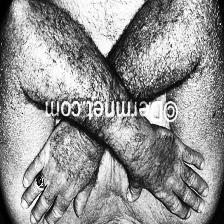Non-Cancerous Skin Condition: (184, 73, 224, 129), (0, 84, 34, 148), (144, 16, 174, 66)
